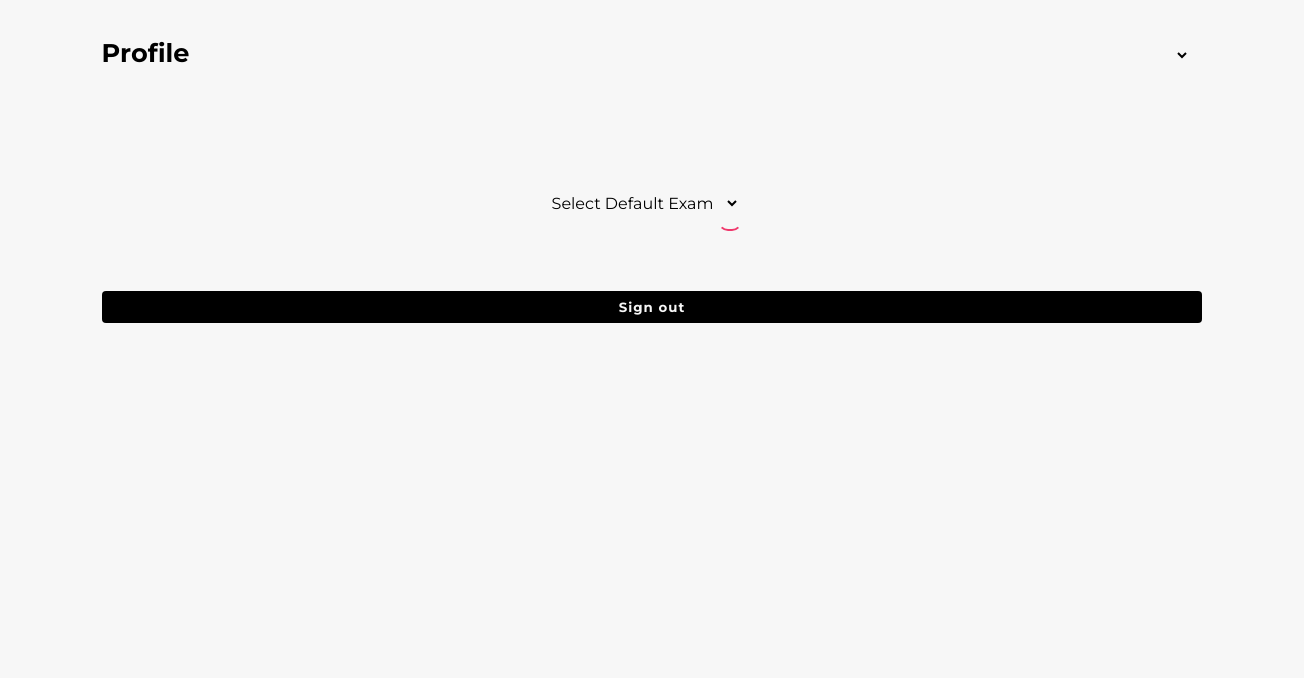
Test: sign-out ends the session and returns to the landing page
Step 1. Click the button "Sign out" → click(652, 307), box [102, 291, 1202, 323]
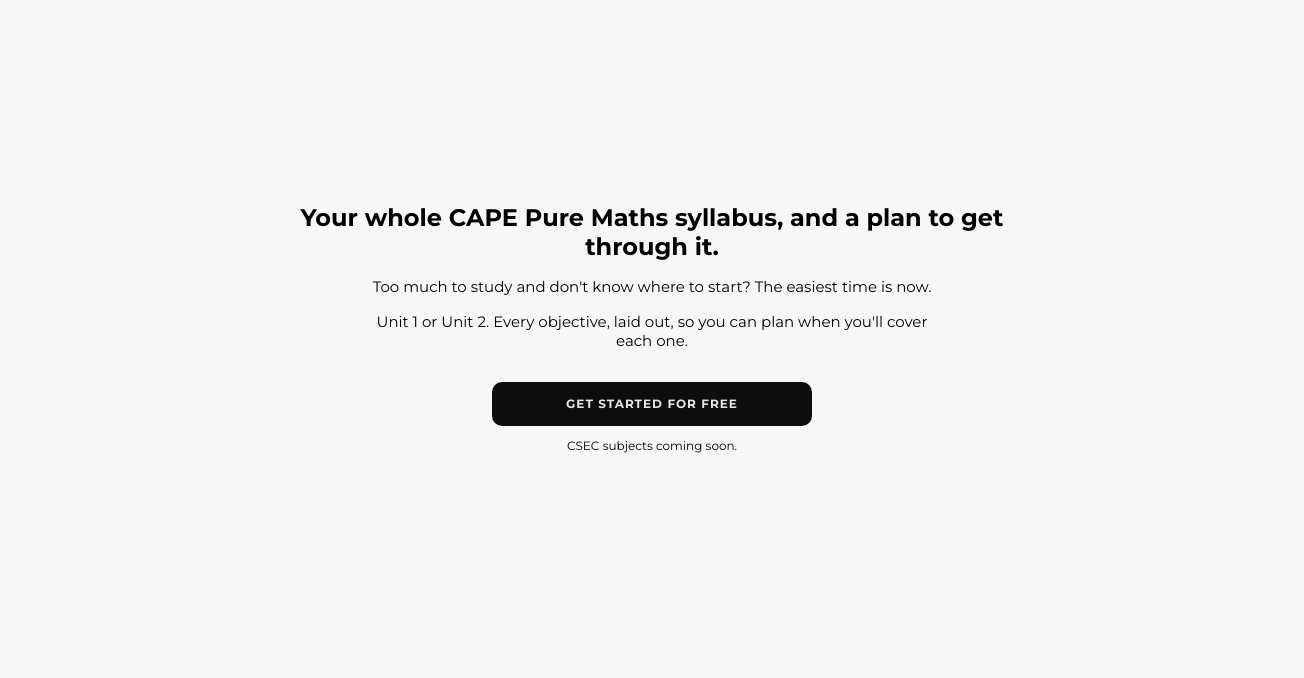
expect the button "GET STARTED FOR FREE" is shown: met, box [492, 382, 812, 426]
